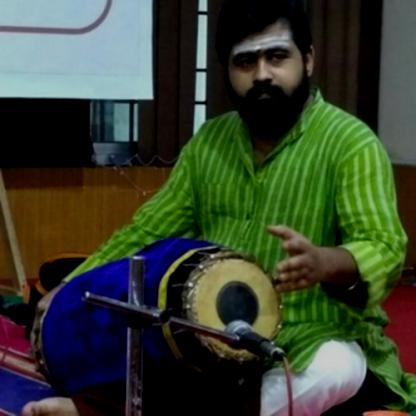Mridangam: (36, 234, 295, 399)
